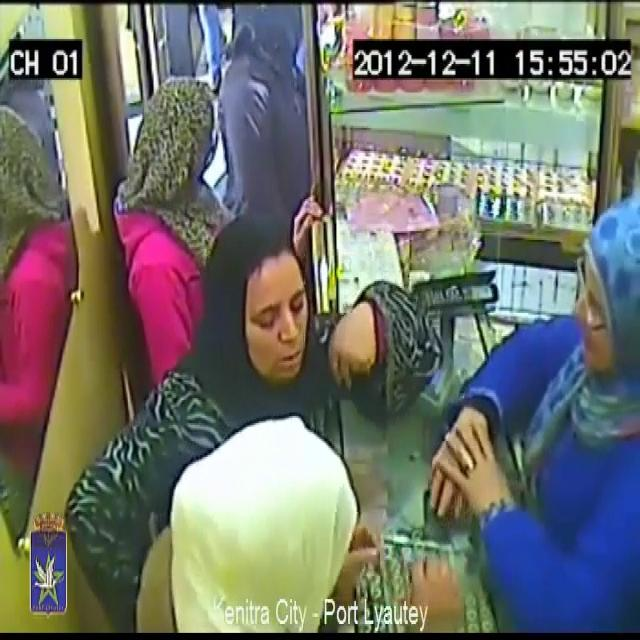Product: (384, 540, 414, 592)
normal: (466, 138, 639, 640), (250, 202, 382, 418), (124, 68, 232, 314), (228, 0, 314, 192)
shoplifting: (119, 412, 449, 640)
